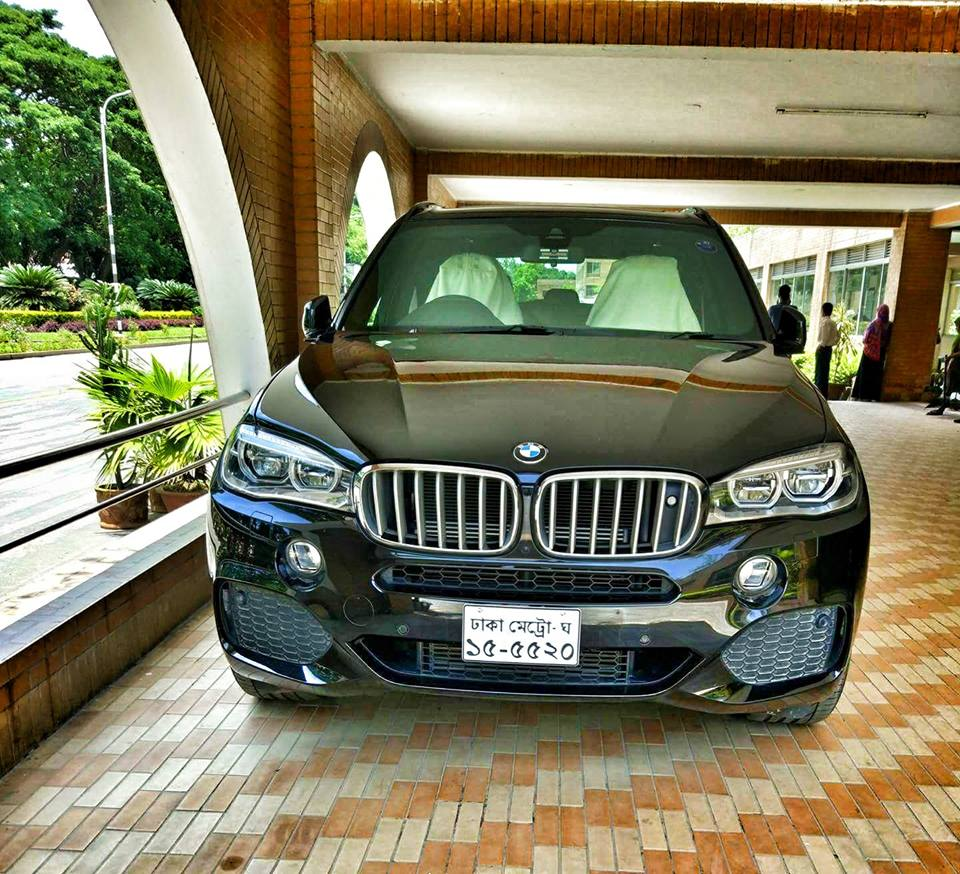registration_plate: (461, 602, 583, 668)
